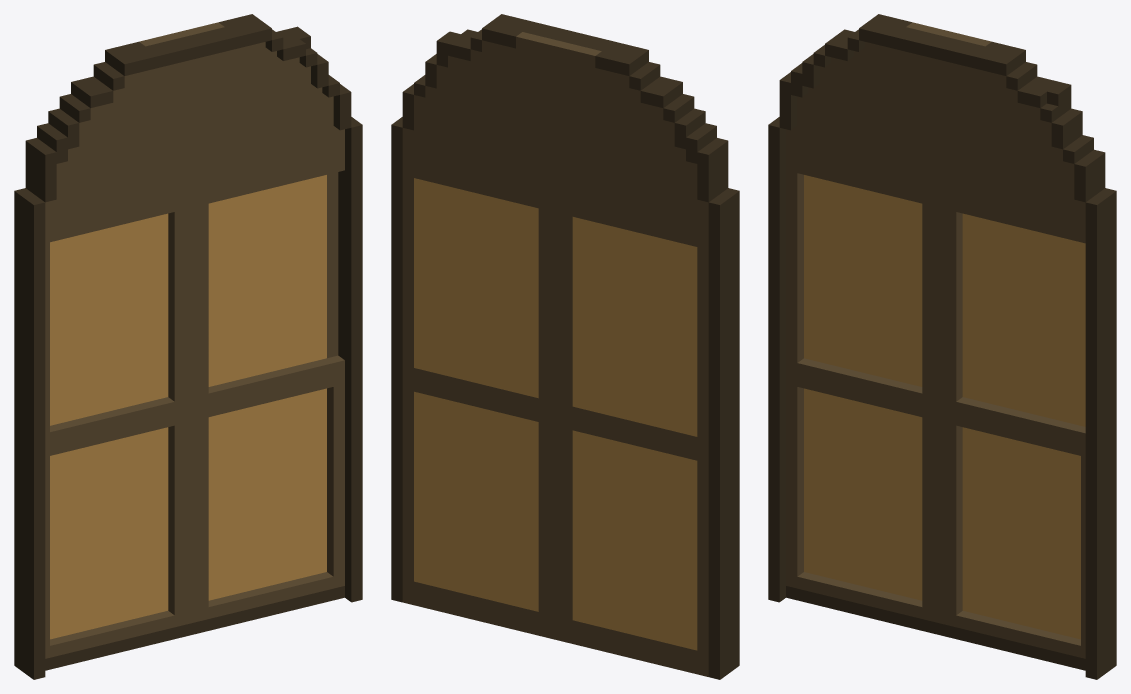
Rendered from entry door 2.obj.
3 renders of one model, left to right at view 1: azimuth 30°, elevation 25°; view 2: azimuth 150°, elevation 25°; view 3: azimuth 330°, elevation 25°, orthographic.
Size of the model in its own units: 2.9 by 5 by 0.3.
1 material, 1 textured.
